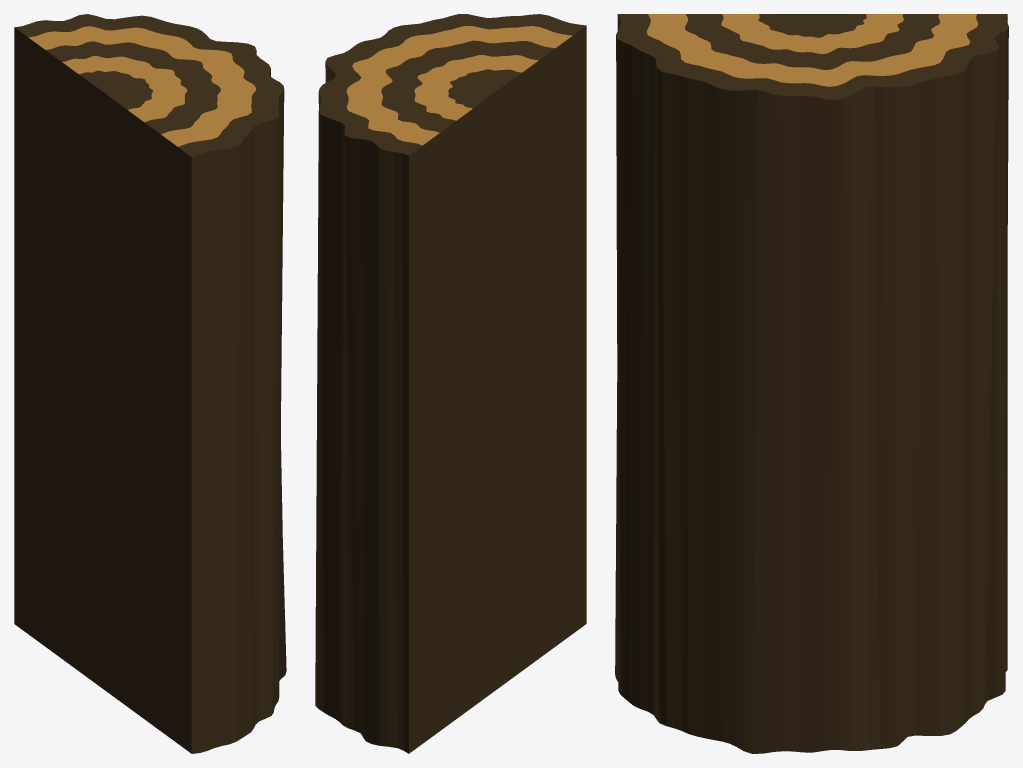
Rendered from HalfLogTemporaryLeft.fbx.
3 views of the same model, side by side, from view 1: azimuth 30°, elevation 25°; view 2: azimuth 150°, elevation 25°; view 3: azimuth 270°, elevation 25° (orthographic). The views are drawn at different scales.
Parts seen in each view (by area): view 1: HalfLogTemporaryLeft; view 2: HalfLogTemporaryLeft; view 3: HalfLogTemporaryLeft.
Part boxes in pixels (x1,y1,x2,y2): HalfLogTemporaryLeft: [14, 14, 286, 753]; HalfLogTemporaryLeft: [315, 14, 586, 753]; HalfLogTemporaryLeft: [615, 14, 1008, 753].
Bounding box in the file's own units: 73.59 × 261 × 142.
